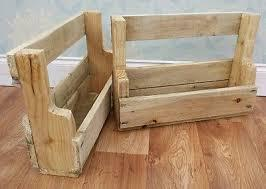wood: (7, 8, 106, 180), (111, 14, 259, 122)
